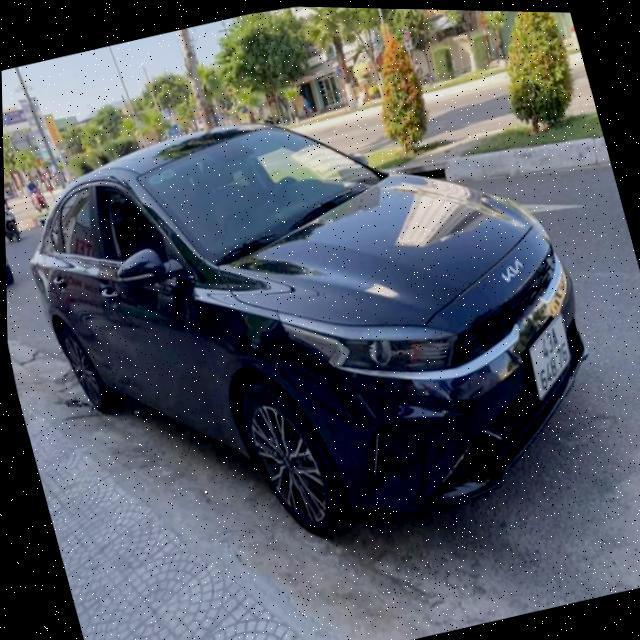car: (1, 44, 638, 610)
plate: (517, 312, 584, 404)
